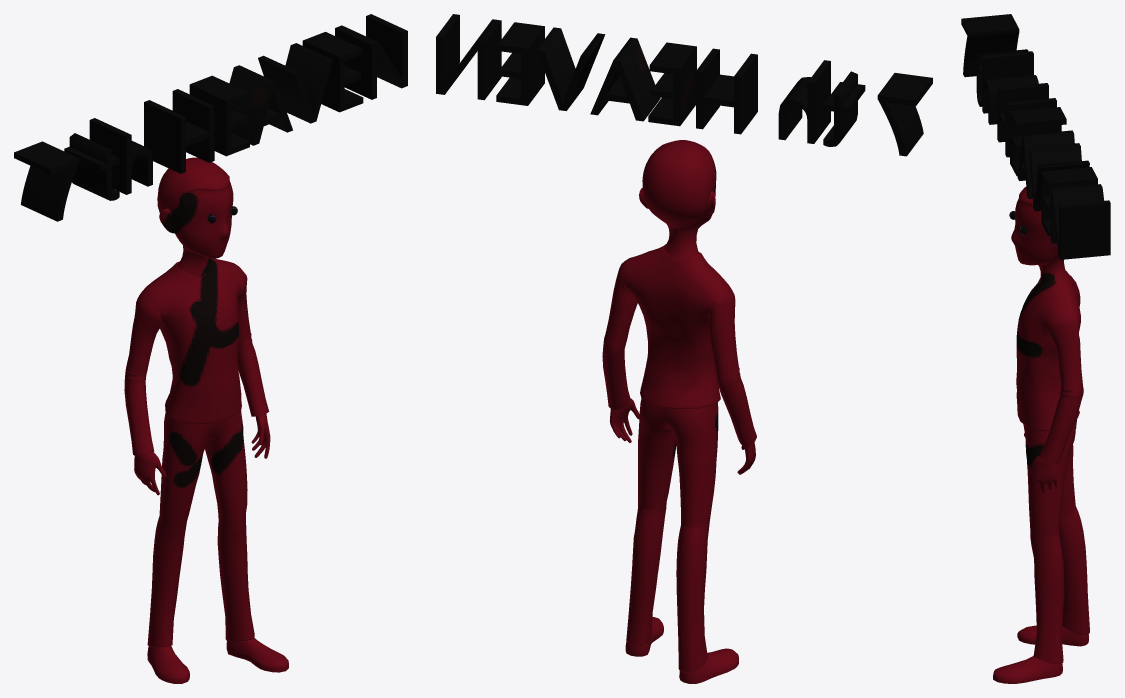
The model's file is Untitledyyyy.glb.
The picture shows the model from 3 angles, left to right: view 1: azimuth 30°, elevation 25°; view 2: azimuth 150°, elevation 25°; view 3: azimuth 270°, elevation 25°; orthographic projection. The views are drawn at different scales.
Parts seen in each view (by area): view 1: mesh_id26, mesh_id466; view 2: mesh_id26, mesh_id466; view 3: mesh_id26, mesh_id466.
Part boxes in pixels (x1,y1,x2,y2): mesh_id26: [124, 157, 288, 683]; mesh_id466: [14, 14, 407, 221]; mesh_id26: [602, 140, 756, 683]; mesh_id466: [436, 14, 932, 156]; mesh_id26: [993, 187, 1089, 683]; mesh_id466: [961, 14, 1110, 259].
Bounding box in the file's own units: 0.1338 × 0.1763 × 0.0437.
4 materials, 4 textured.
